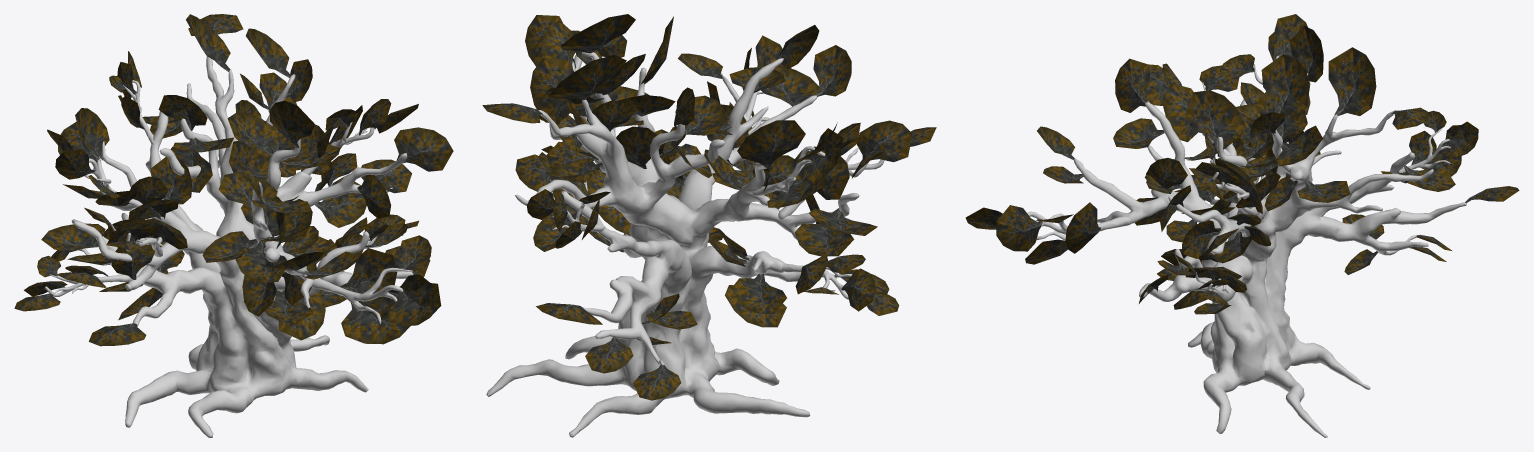
Rendered from ancientTree.fbx.
3 views of the same model, side by side, from view 1: azimuth 30°, elevation 25°; view 2: azimuth 150°, elevation 25°; view 3: azimuth 270°, elevation 25° (orthographic). The views are drawn at different scales.
Parts seen in each view (by area): view 1: leaves, ancientTREE, leaves_2, leaves_8, leaves_6, leaves_3, leaves_4, branch_3, leaves_5, leaves_7, branch_7, branch_19; view 2: ancientTREE, leaves, leaves_8, leaves_4, leaves_3, leaves_6, leaves_5, leaves_7, leaves_2, branch_12, branch_10, branch_7 (+1 smaller); view 3: leaves, ancientTREE, leaves_2, leaves_4, leaves_5, leaves_6, leaves_8, leaves_7, branch_3.
Part boxes in pixels (<box>): leaves: <box>41,14,453,346</box>; ancientTREE: <box>71,56,413,437</box>; leaves_2: <box>340,235,441,344</box>; leaves_8: <box>316,99,418,157</box>; leaves_6: <box>47,129,136,206</box>; leaves_3: <box>14,255,108,311</box>; leaves_4: <box>84,207,187,255</box>; branch_3: <box>311,267,412,324</box>; leaves_5: <box>109,51,144,129</box>; leaves_7: <box>335,214,418,254</box>; branch_7: <box>45,274,129,296</box>; branch_19: <box>302,122,374,175</box>; ancientTREE: <box>486,52,859,437</box>; leaves: <box>482,14,889,400</box>; leaves_8: <box>525,15,626,124</box>; leaves_4: <box>817,120,936,199</box>; leaves_3: <box>795,254,899,315</box>; leaves_6: <box>767,122,854,207</box>; leaves_5: <box>526,189,610,248</box>; leaves_7: <box>515,148,605,206</box>; leaves_2: <box>678,35,791,130</box>; branch_12: <box>752,146,825,195</box>; branch_10: <box>778,148,884,219</box>; branch_7: <box>782,263,852,299</box>; leaves: <box>1037,25,1519,314</box>; ancientTREE: <box>1074,73,1466,437</box>; leaves_2: <box>965,202,1100,264</box>; leaves_4: <box>1145,63,1239,142</box>; leaves_5: <box>1409,110,1478,176</box>; leaves_6: <box>1219,14,1310,114</box>; leaves_8: <box>1189,133,1262,213</box>; leaves_7: <box>1175,254,1247,305</box>; branch_3: <box>1027,211,1130,240</box>.
Size of the model in its own units: 1292 by 1150 by 1702.
